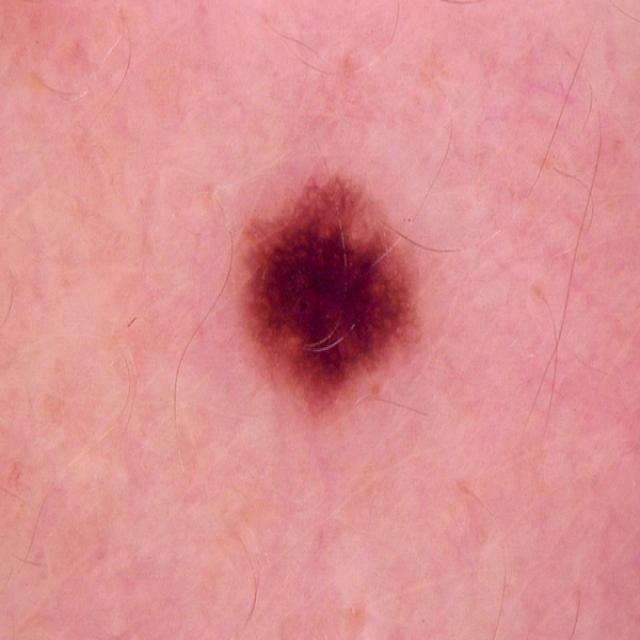NV: (239, 171, 423, 414)
